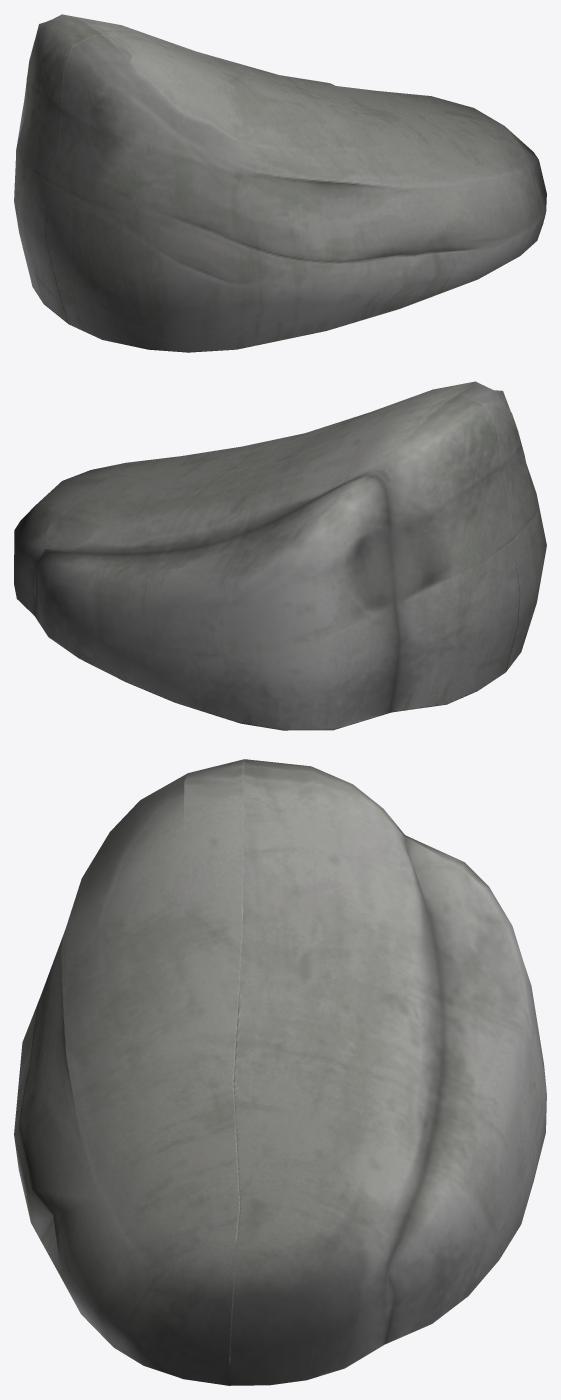
File: 5_Grande.fbx
3 renders of one model, top to bottom at view 1: azimuth 30°, elevation 25°; view 2: azimuth 150°, elevation 25°; view 3: azimuth 270°, elevation 25°, orthographic. The views are drawn at different scales.
Visible parts, largest first — view 1: 5_R_Grande_Low; view 2: 5_R_Grande_Low; view 3: 5_R_Grande_Low.
Boxes of the visible parts, x1,y1,x2,y2 form: 5_R_Grande_Low: [14, 14, 546, 352]; 5_R_Grande_Low: [14, 381, 546, 730]; 5_R_Grande_Low: [14, 759, 546, 1385].
Size of the model in its own units: 2343 by 1265 by 1744.
